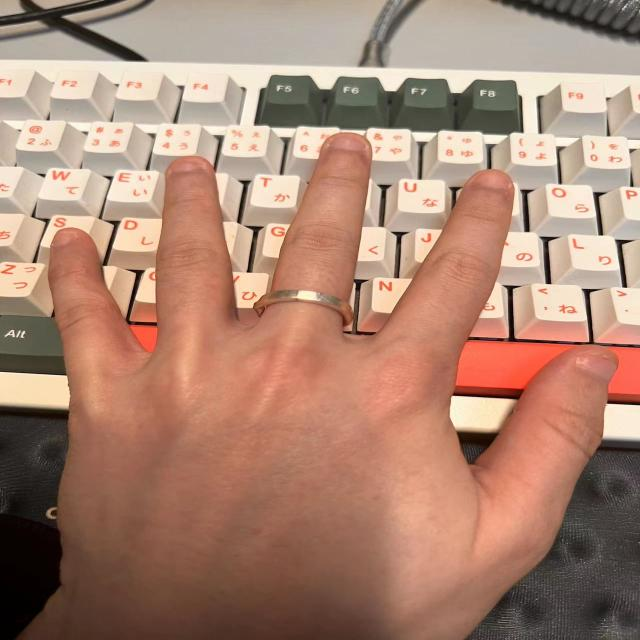Nail: (575, 348, 619, 382), (473, 171, 509, 188), (329, 135, 367, 150), (172, 160, 203, 172), (53, 231, 76, 245)
